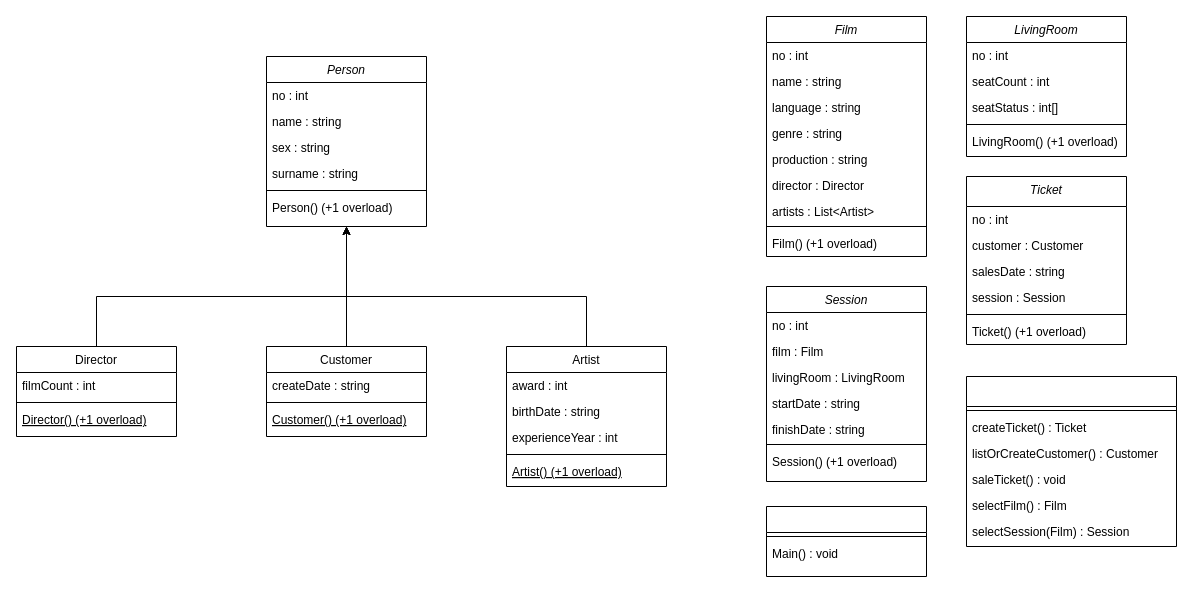
The diagram is 1193 pixels wide and 593 high, and some of its shapes have lost their labels. The shapes that lost their labels are listed below. From the top down, each one's box as (x1, y1, x2, y2) in pixels, then its label:
(966, 376, 1176, 546): Operation
(766, 506, 926, 576): Program
